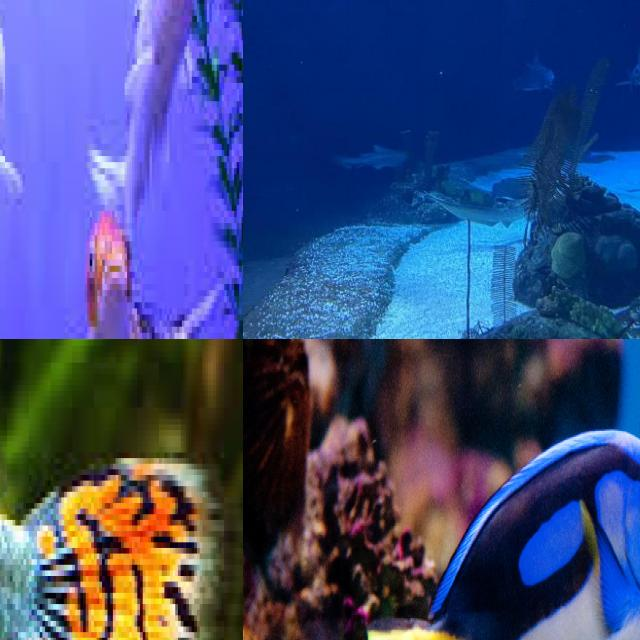fish: (0, 0, 243, 339), (0, 339, 240, 640), (360, 414, 640, 640)
